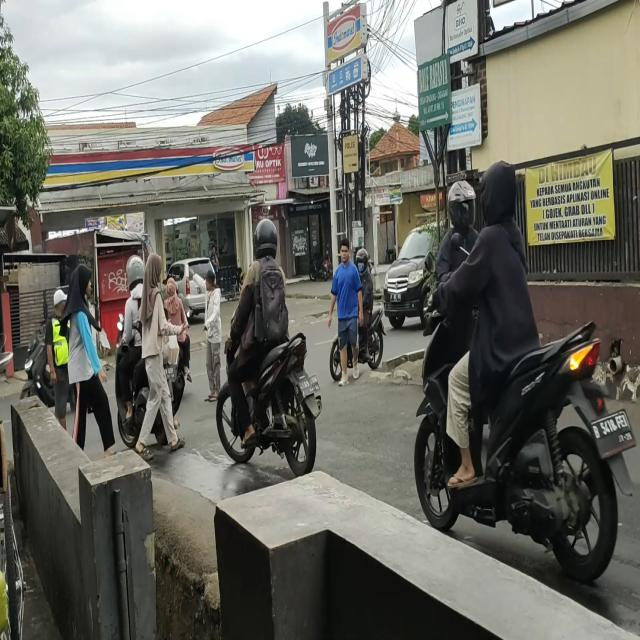helmet: (448, 180, 476, 228), (254, 218, 280, 262), (125, 256, 144, 286), (355, 249, 369, 274)
no-helmet: (484, 169, 514, 220), (167, 275, 177, 298)
